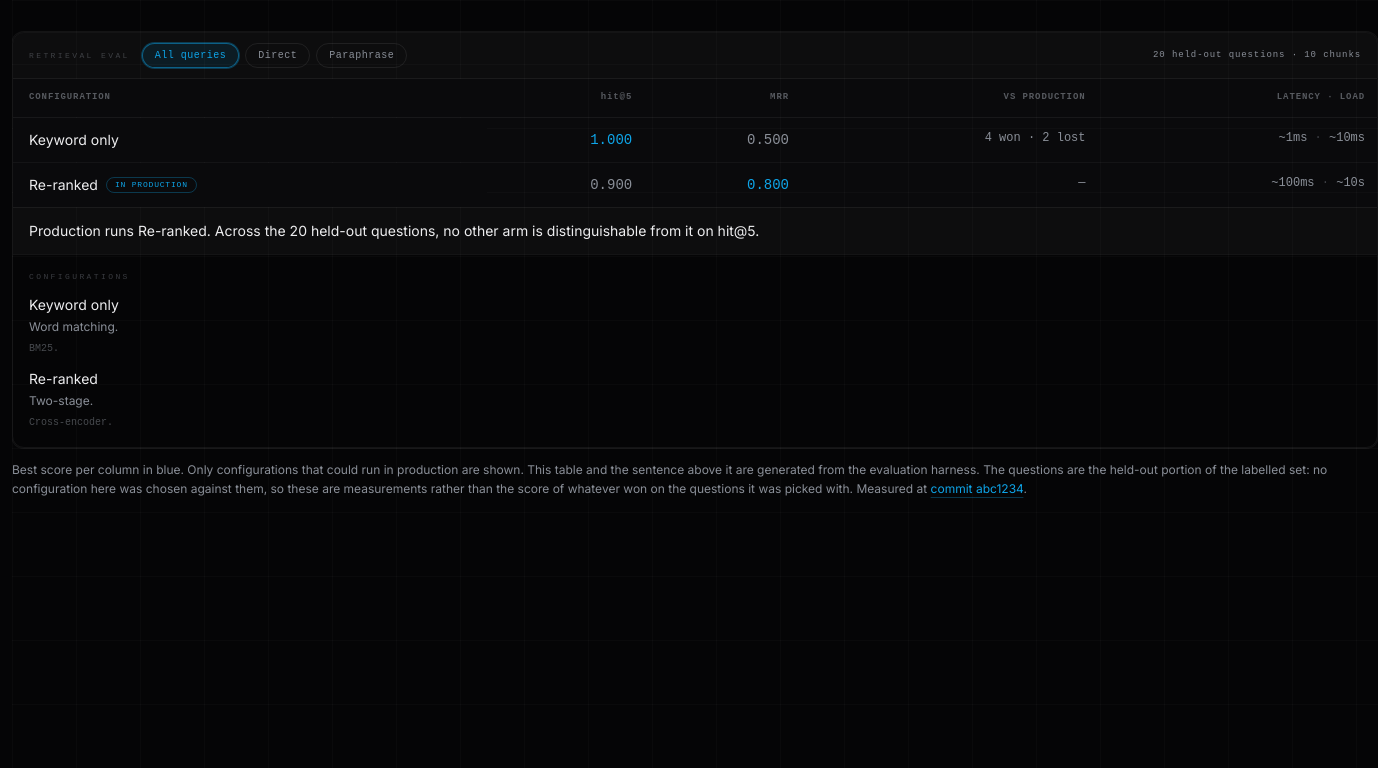
Test: EvalScoreboard won/lost column › switches to the category's own counts with the category filter
The image size is (1378, 768).
Click the tab "Paraphrase" at (362, 56), box [316,43,407,68]
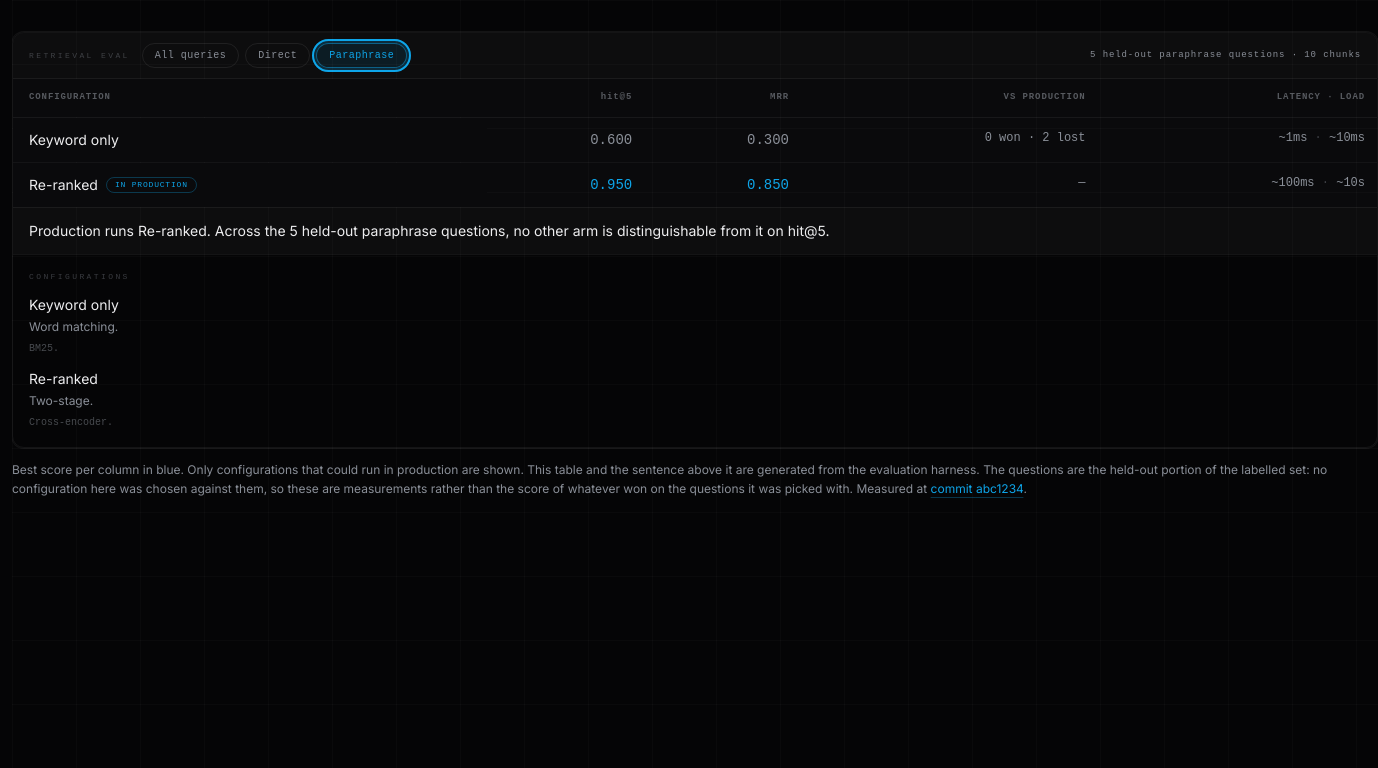
Expected: the text "0 won · 2 lost" is shown, [801,118,1098,162]
